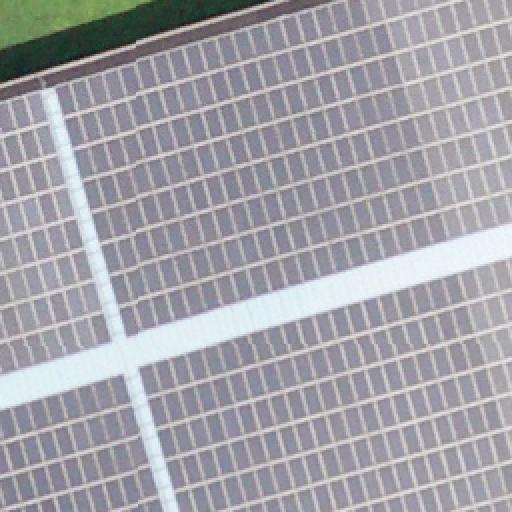solar-panel: (56, 0, 512, 336), (140, 256, 512, 512), (0, 89, 116, 375), (1, 372, 167, 512)
